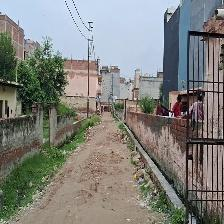Road: (15, 108, 149, 223)
